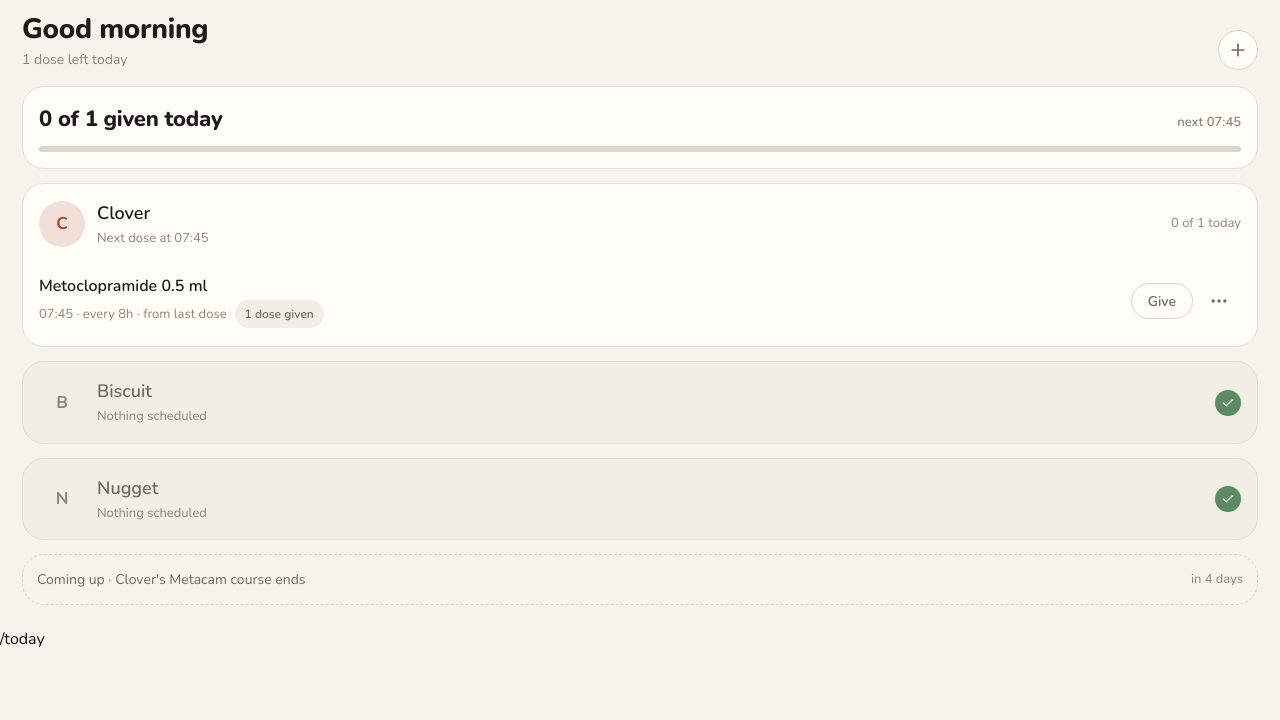
TodayPage › offers the early-give confirm dialog for a fromLastDose (interval) course too, not only fixedTimes (F8)
This screenshot has width=1280, height=720.
Click the button "Give": click(1162, 301) [1131,283,1193,319]
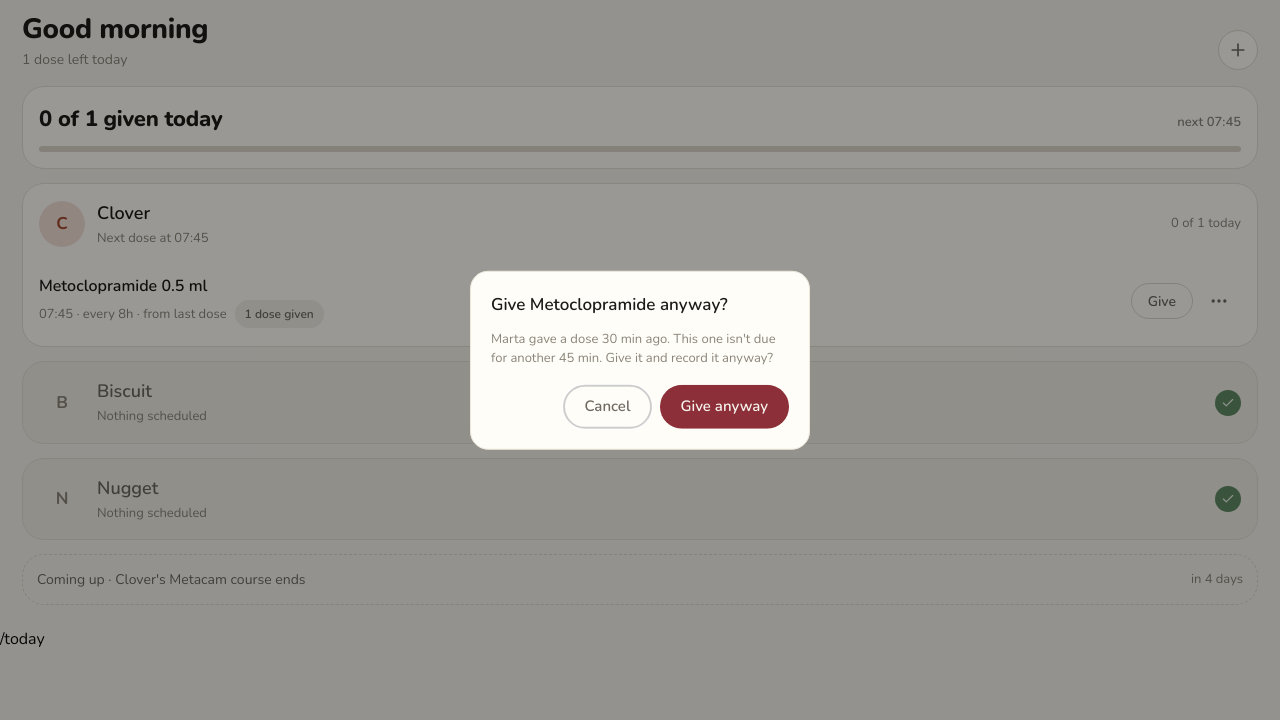
Result: the heading "Give Metoclopramide anyway?" is shown at [491,293,728,316]
Result: the text "Marta gave a dose 30 min ago. This one isn't due for another 45 min. Give it and record it anyway?" is shown at [491,329,776,367]
